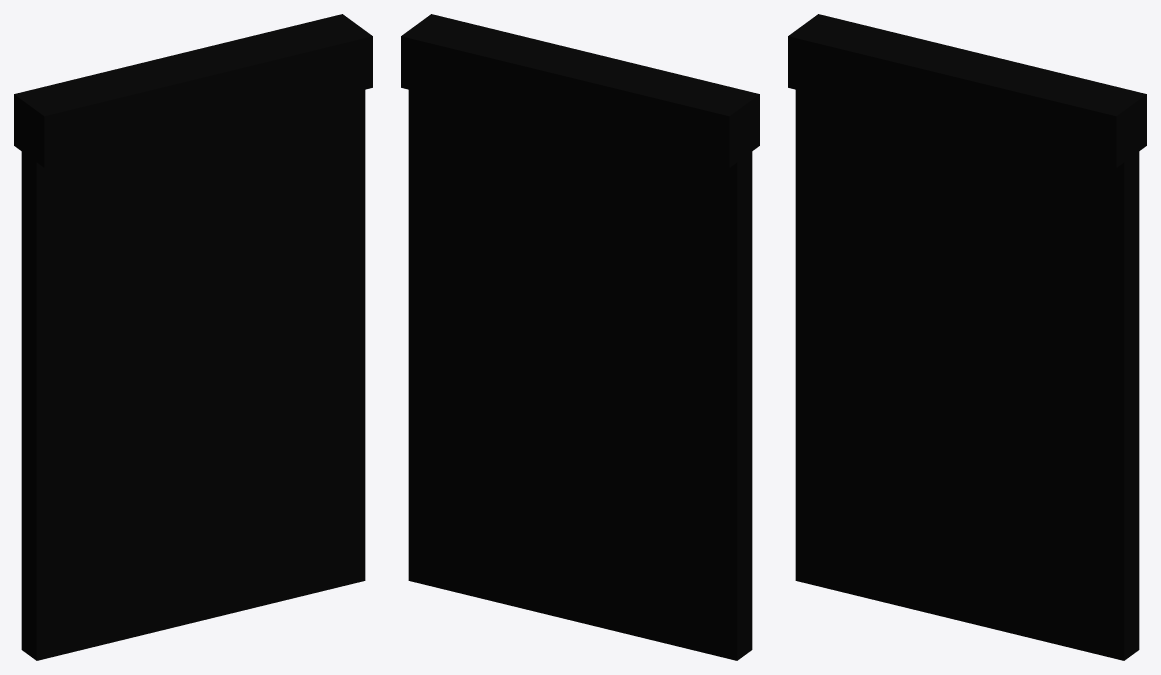
File: sv-gatewall01.dae
The picture shows the model from 3 angles, left to right: view 1: azimuth 30°, elevation 25°; view 2: azimuth 150°, elevation 25°; view 3: azimuth 330°, elevation 25°; orthographic projection.
Visible parts, largest first — view 1: S_Object; view 2: S_Object; view 3: S_Object.
Boxes of the visible parts, x1,y1,x2,y2 form: S_Object: (14, 14, 372, 660); S_Object: (401, 14, 759, 660); S_Object: (788, 14, 1146, 660).
Bounding box in the file's own units: 0.5 × 0.8 × 0.08.
